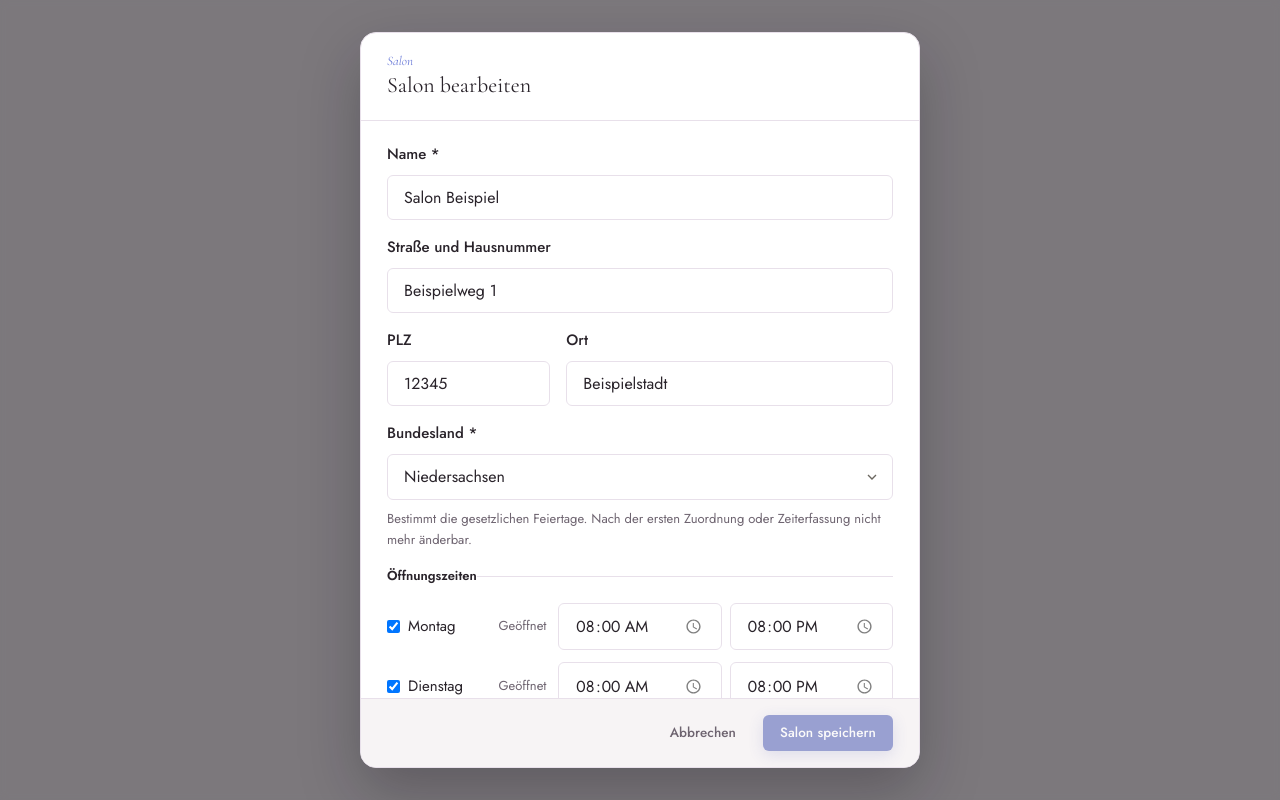
Scenario: SalonDialog - refusals › any other code is a dialog alert with the count-free sentence
The width and height of the screenshot is (1280, 800).
Select "Bayern" in the dropdown labelled "Bundesland *": (640, 477) [387, 454, 893, 500]
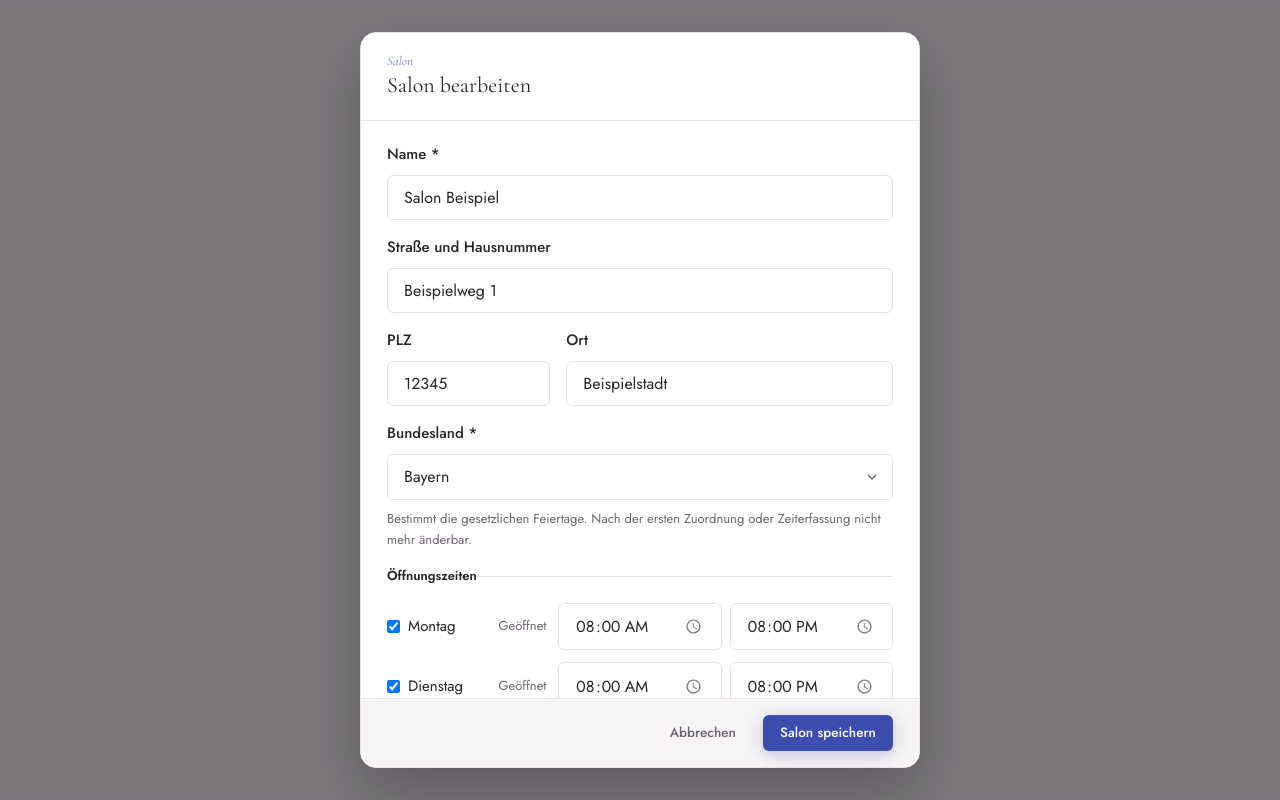
Click the button "Salon speichern": (828, 733) [763, 715, 893, 751]
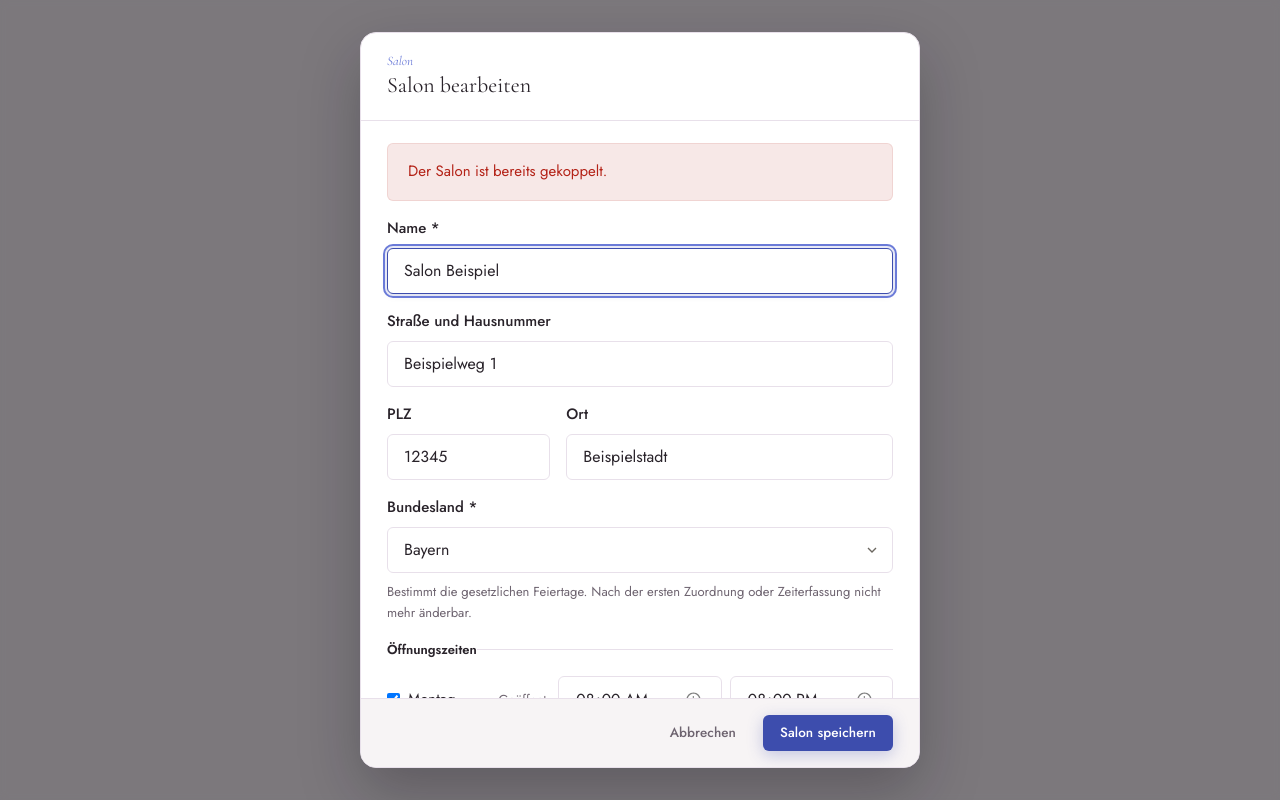
Expected: the message "Der Salon ist bereits gekoppelt." is shown, [387, 143, 893, 201]
